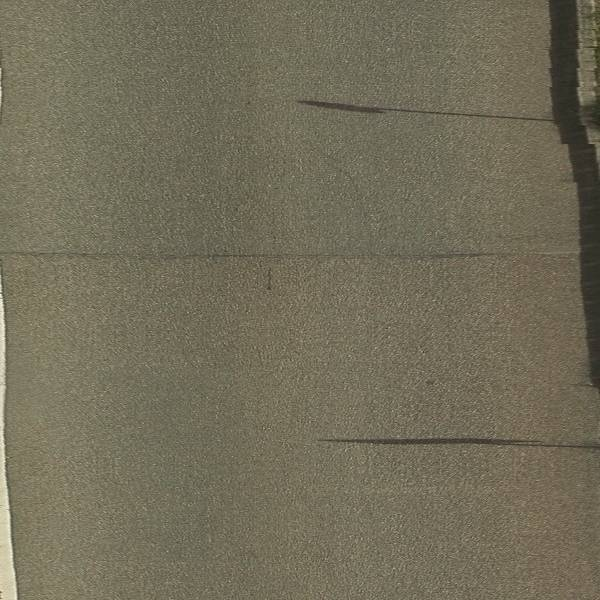road_damage: (26, 228, 575, 287)
